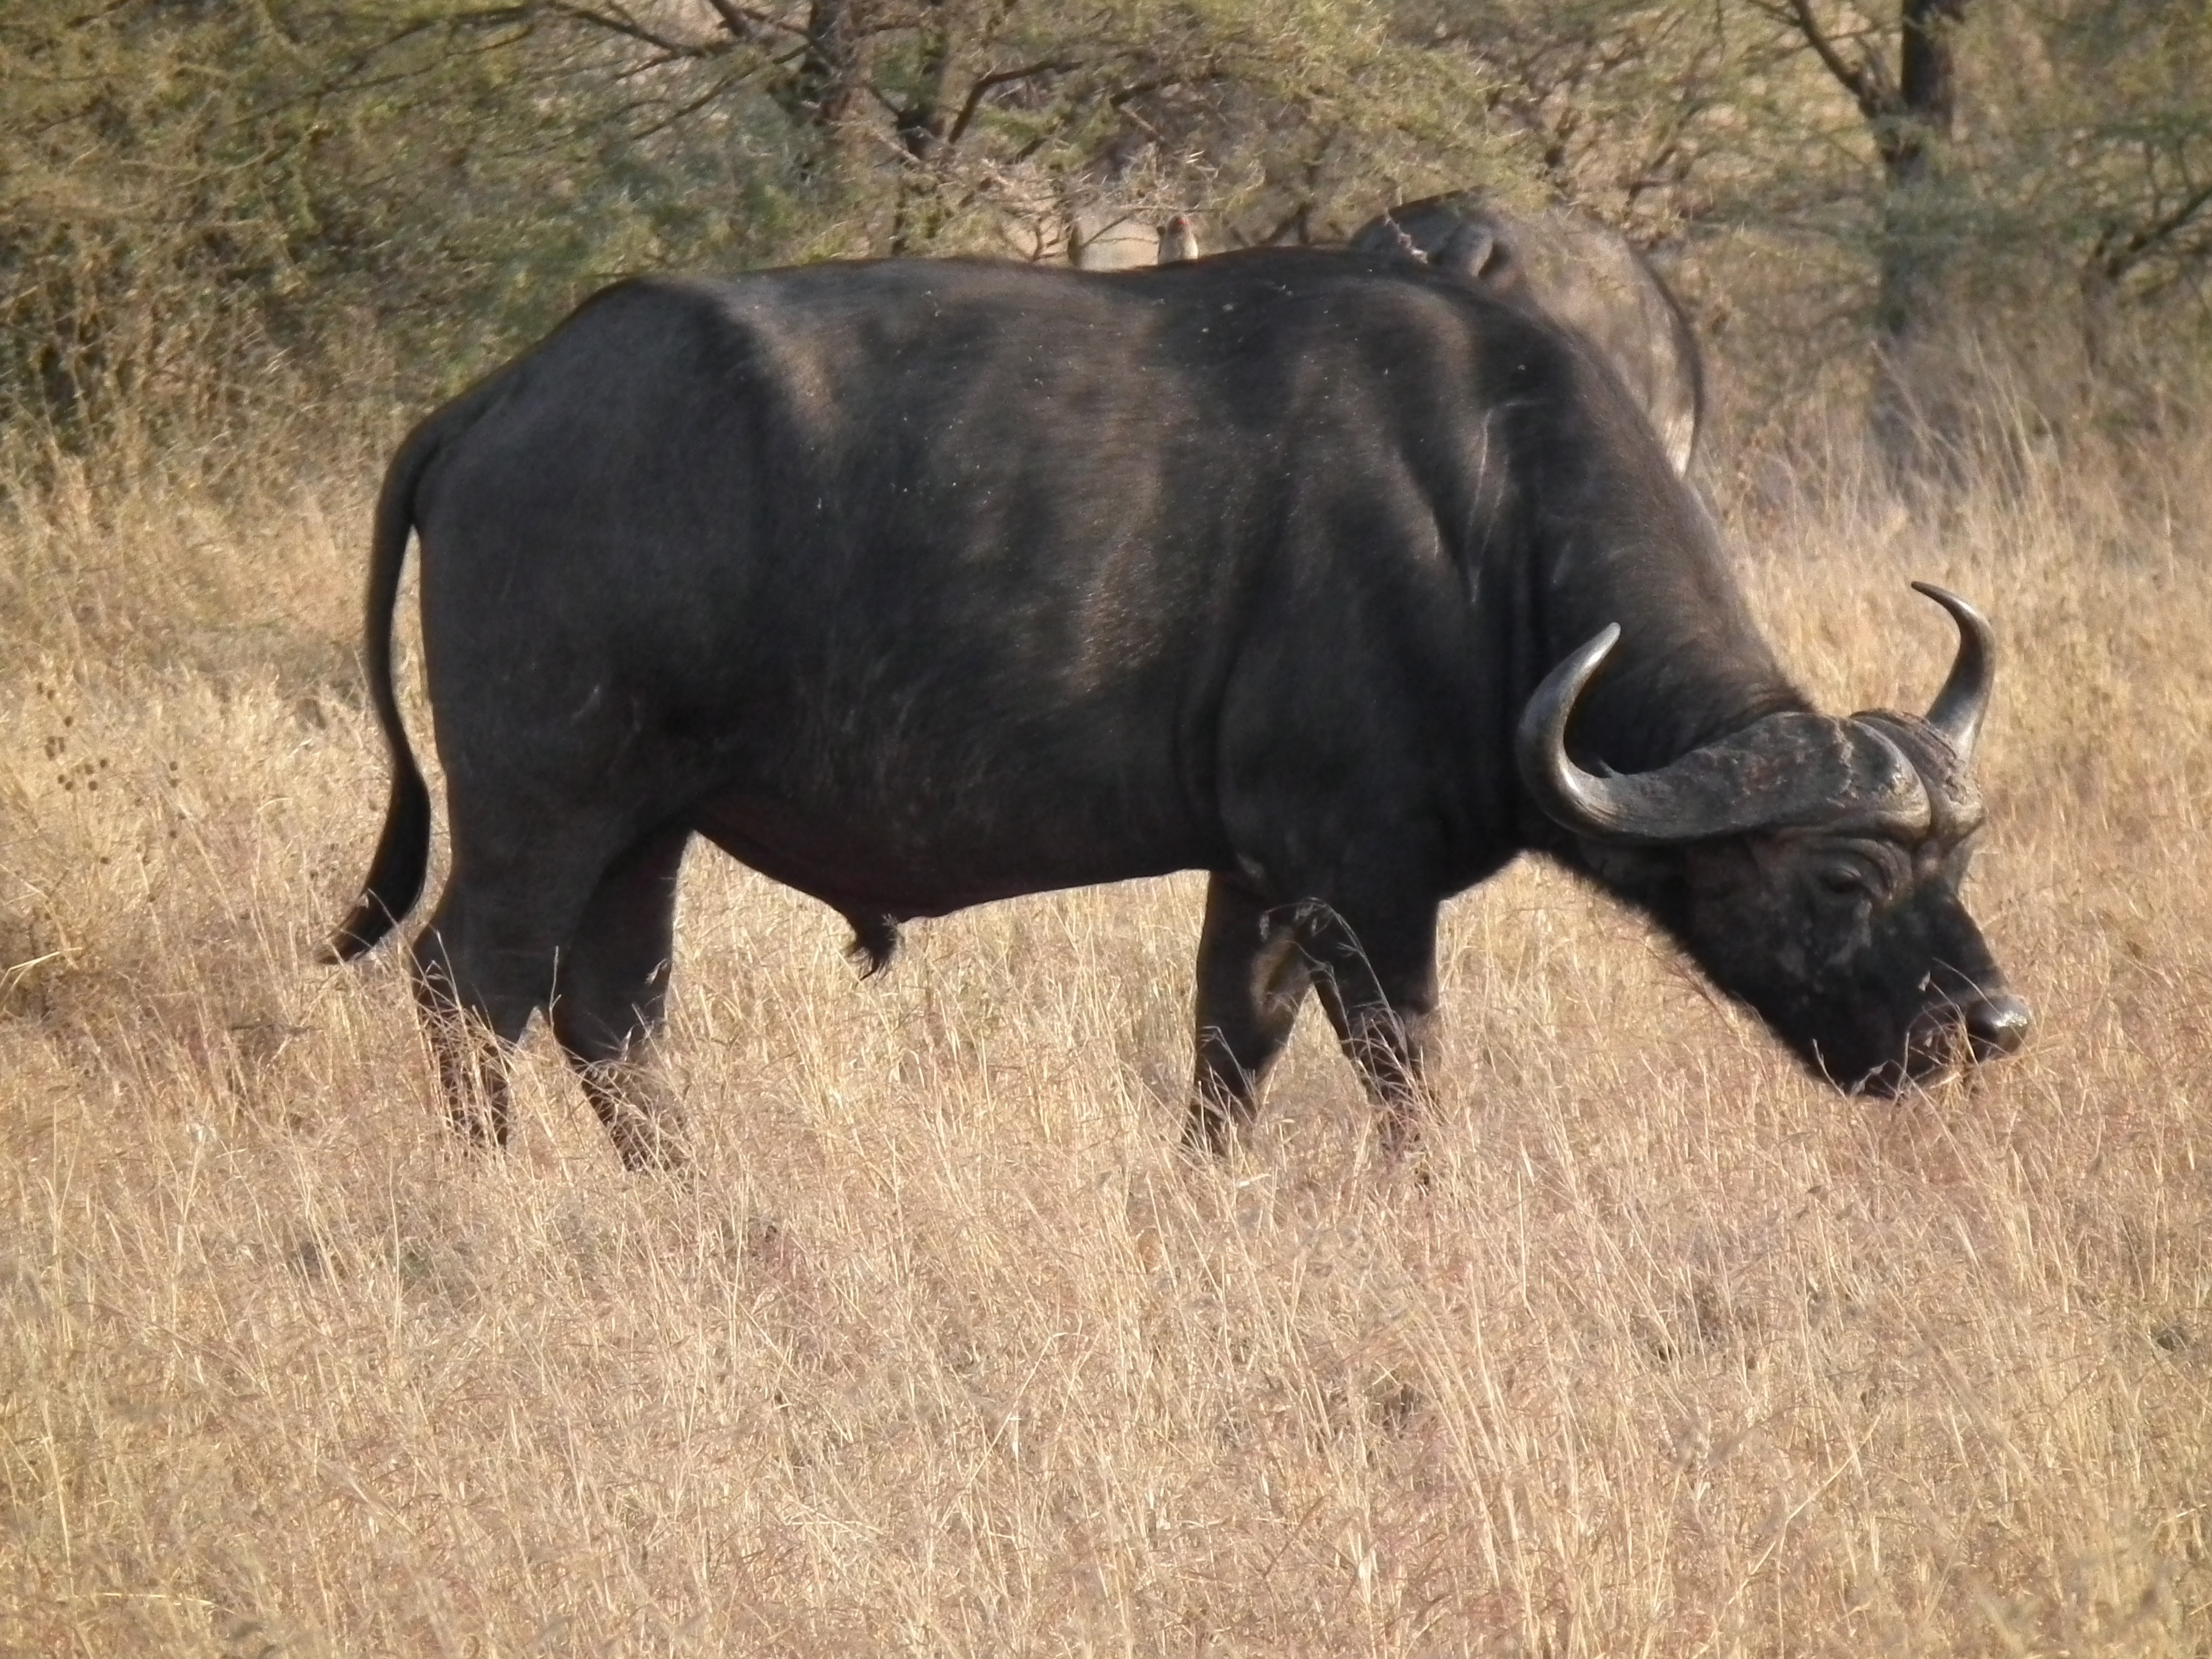buffalo: (310, 246, 2027, 1145)
